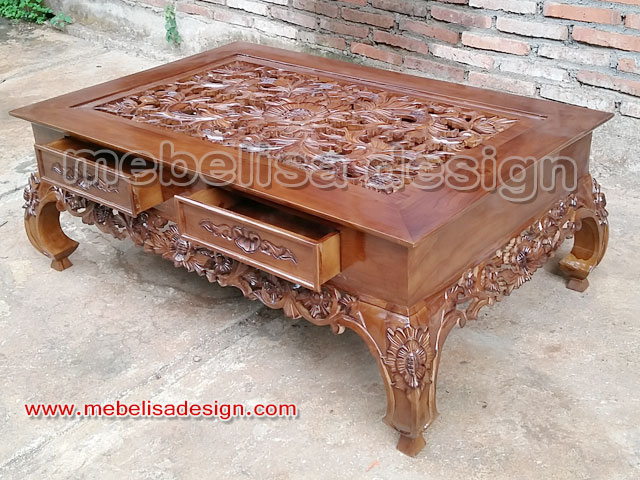Carving Table: (31, 50, 581, 412)
